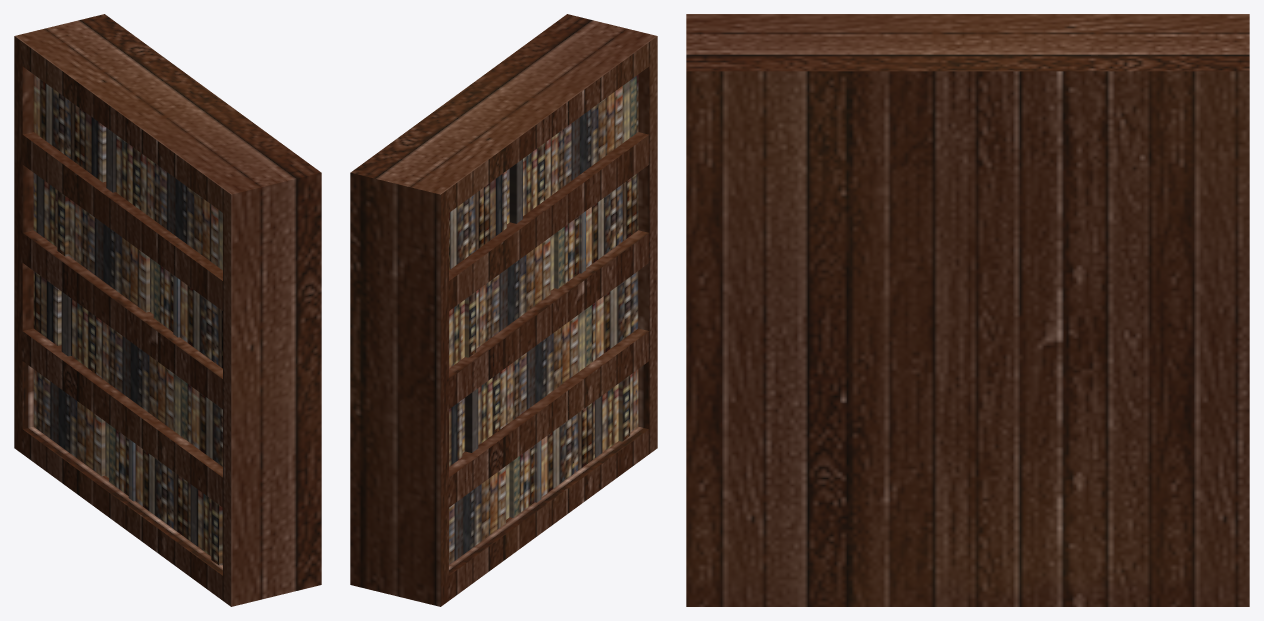
Rendered from Bookshelf1.fbx.
The picture shows the model from 3 angles, left to right: view 1: azimuth 30°, elevation 25°; view 2: azimuth 150°, elevation 25°; view 3: azimuth 270°, elevation 25°; orthographic projection. The views are drawn at different scales.
Visible parts, largest first — view 1: Cube.005; view 2: Cube.005; view 3: Cube.005.
Boxes of the visible parts, x1,y1,x2,y2 form: Cube.005: [14, 14, 321, 606]; Cube.005: [350, 14, 657, 606]; Cube.005: [686, 14, 1249, 606].
Bounding box in the file's own units: 86.25 × 376 × 359.
2 materials, 2 textured.
